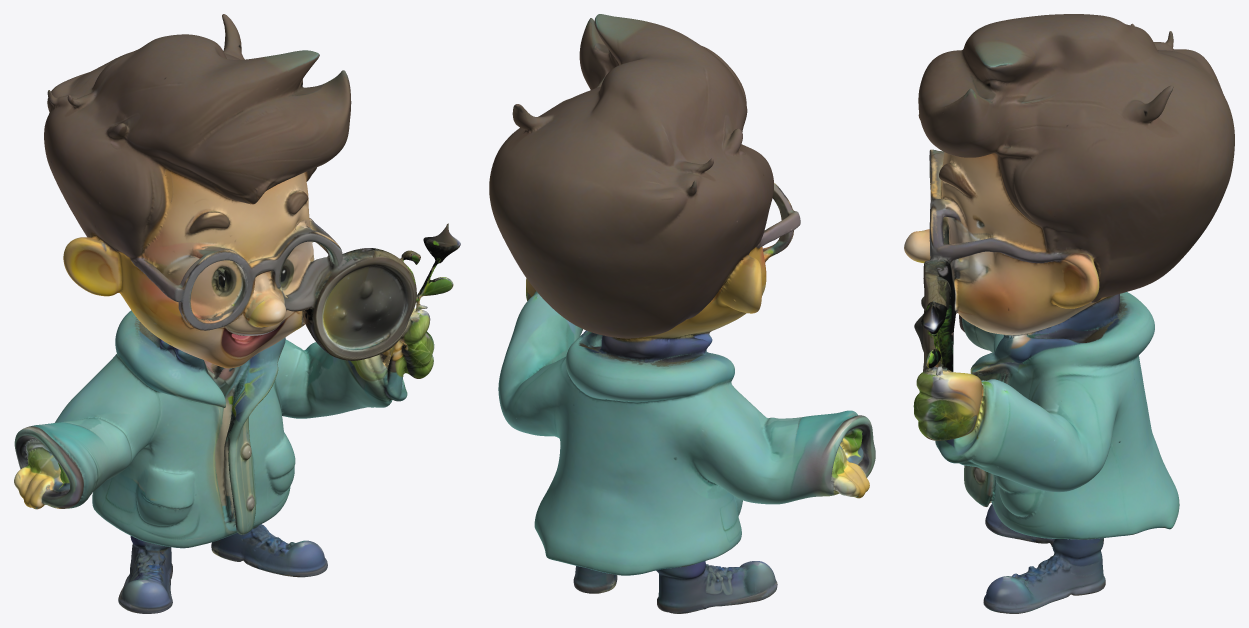
File: discovery.glb
3 views of the same model, side by side, from view 1: azimuth 30°, elevation 25°; view 2: azimuth 150°, elevation 25°; view 3: azimuth 270°, elevation 25° (orthographic). The views are drawn at different scales.
Bounding box in the file's own units: 51759 × 65637 × 36261.
Materials: 1 (1 with a texture image).
